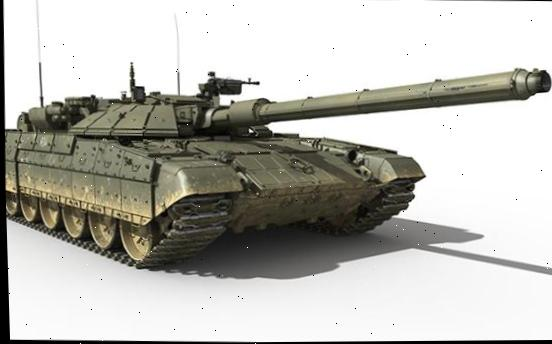tank: (1, 36, 552, 290)
